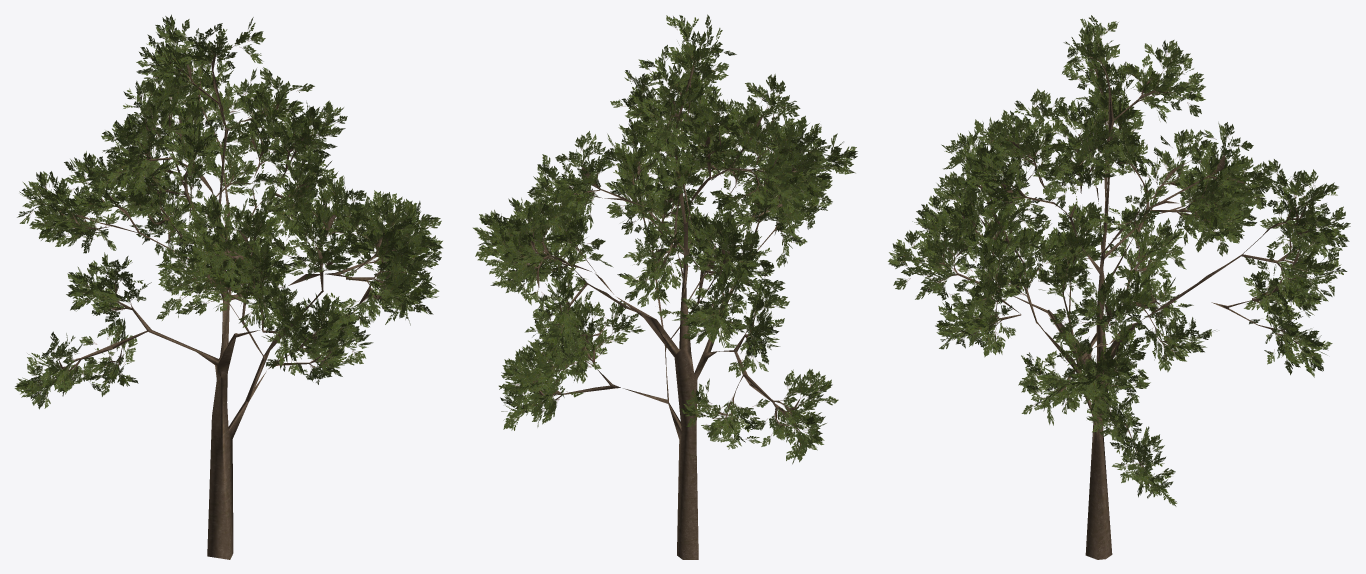
File: enc_tree_fruit.glb
3 renders of one model, left to right at view 1: azimuth 30°, elevation 25°; view 2: azimuth 150°, elevation 25°; view 3: azimuth 270°, elevation 25°, orthographic.
Visible parts, largest first — view 1: KB3D_ENC_BldgMdBookStore_A_Tree; view 2: KB3D_ENC_BldgMdBookStore_A_Tree; view 3: KB3D_ENC_BldgMdBookStore_A_Tree.
Part boxes in pixels (box(x1,y1,x2,y2)): KB3D_ENC_BldgMdBookStore_A_Tree: box(14, 14, 442, 559); KB3D_ENC_BldgMdBookStore_A_Tree: box(473, 14, 857, 559); KB3D_ENC_BldgMdBookStore_A_Tree: box(888, 15, 1350, 559).
Size of the model in its own units: 6.24 by 8.39 by 6.64.
Materials: 2 (2 with a texture image).
